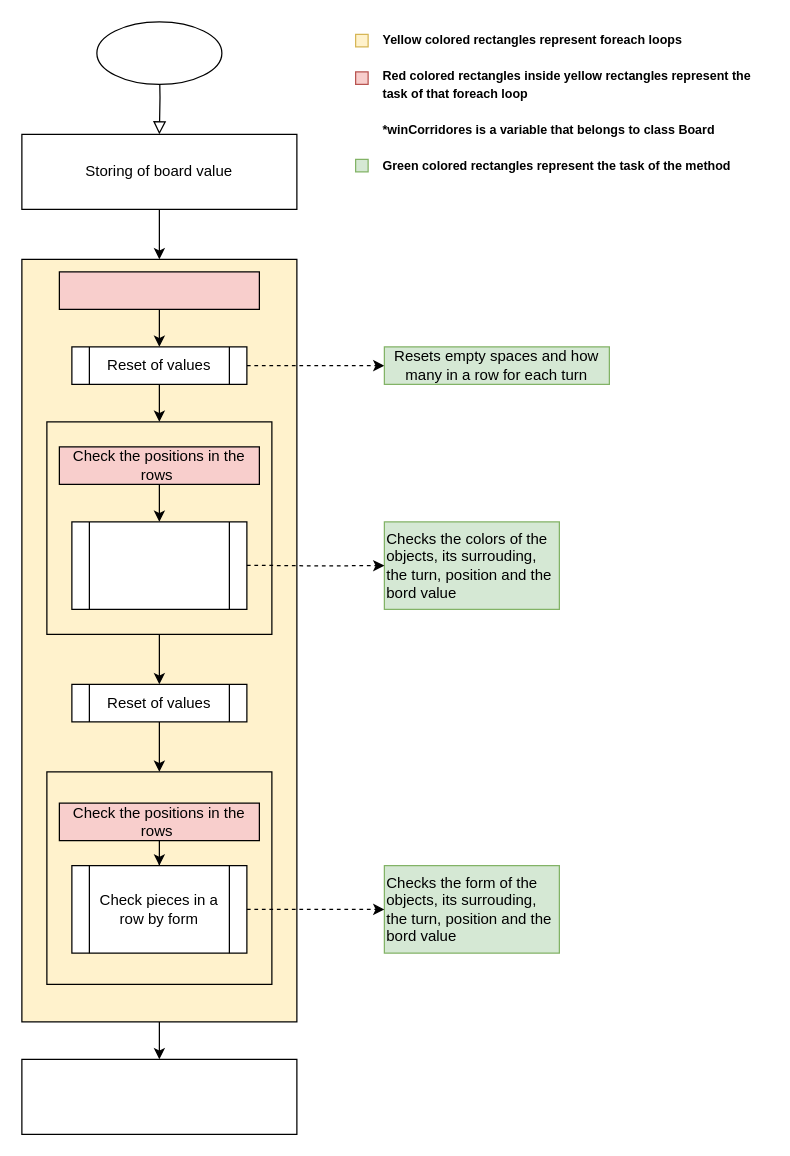
This 790x1156 diagram has some shape labels left out. Here are the shapes that lost their labels. From the top down, the box of each, then its label:
(96, 21, 222, 84): Start
(58, 271, 259, 309): Check the positions in winCorridors*
(71, 521, 247, 609): Check pieces in a row by color
(21, 1058, 297, 1134): Return the value of the board
